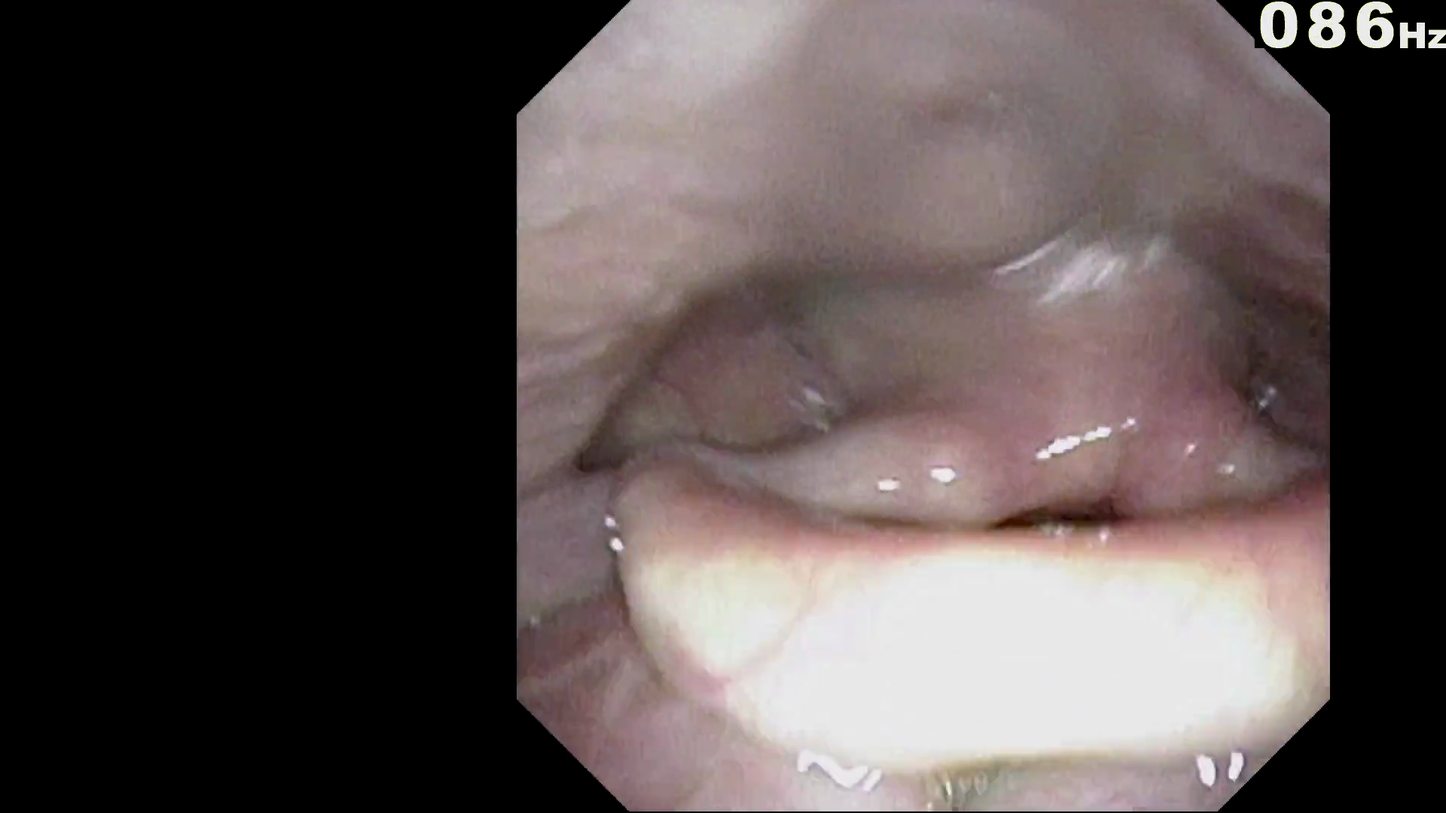epiglottis: (651, 506, 1266, 731)
trachea: (936, 494, 1082, 608)
